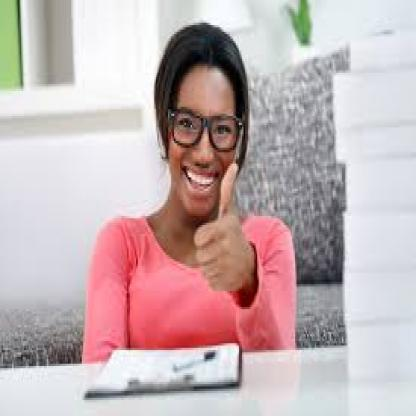thumb_up: (190, 157, 254, 294)
